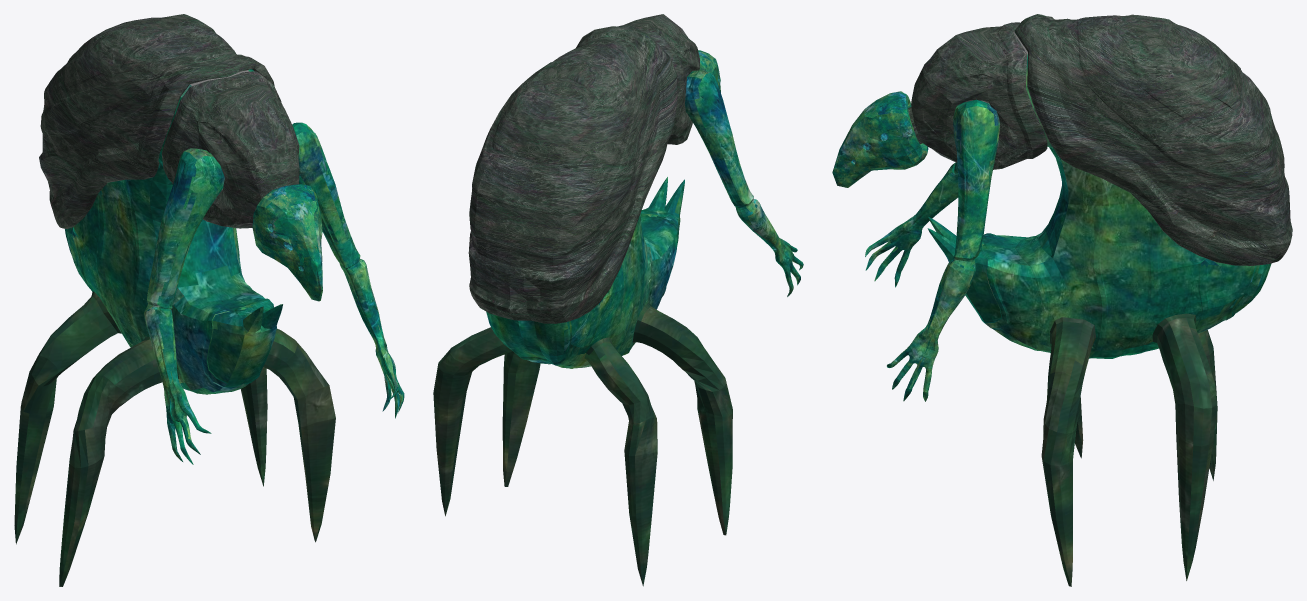
The model's file is Andar.0017.obj.
3 renders of one model, left to right at view 1: azimuth 30°, elevation 25°; view 2: azimuth 150°, elevation 25°; view 3: azimuth 270°, elevation 25°, orthographic. The views are drawn at different scales.
Bounding box in the file's own units: 2.08 × 3.94 × 3.22.
Materials: 5 (4 with a texture image).
